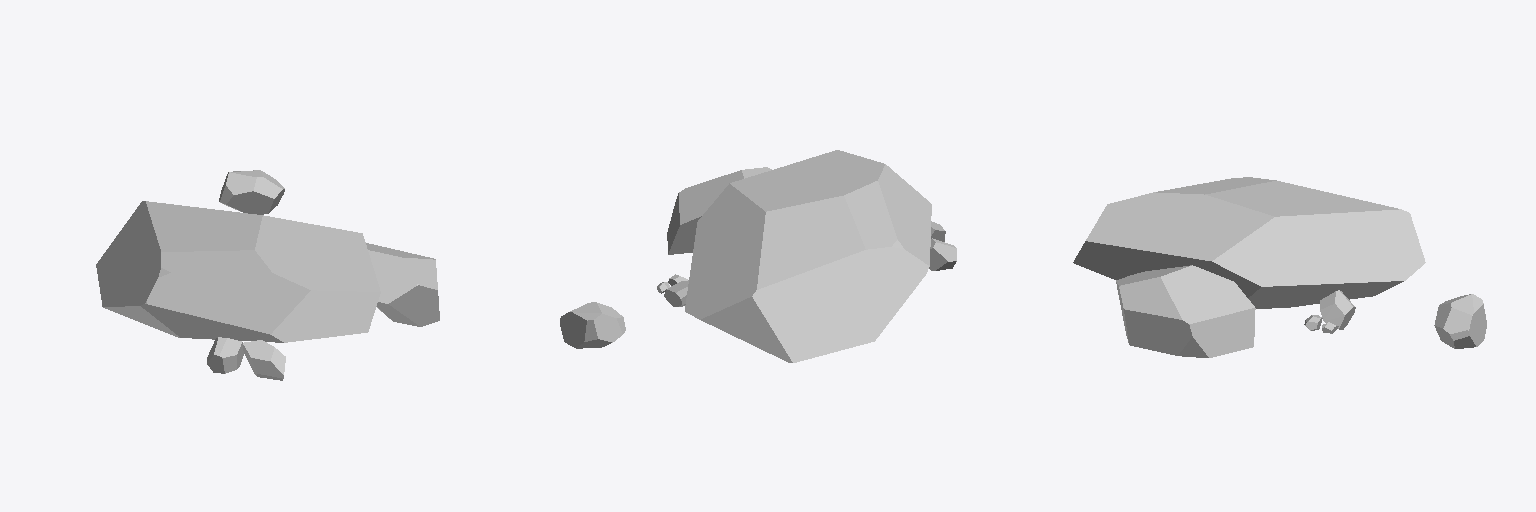
File: small_rocks.obj
The picture shows the model from 3 angles: view 1: azimuth 30°, elevation 25°; view 2: azimuth 150°, elevation 25°; view 3: azimuth 270°, elevation 25°; orthographic projection.
Parts seen in each view (by area): view 1: BigRockAssortment_Sphere; view 2: BigRockAssortment_Sphere; view 3: BigRockAssortment_Sphere.
Part boxes in pixels (x1,y1,x2,y2): BigRockAssortment_Sphere: (96,170,439,380); BigRockAssortment_Sphere: (560,150,956,362); BigRockAssortment_Sphere: (1073,177,1486,357).
Size of the model in its own units: 1.62 by 0.4819 by 2.12.